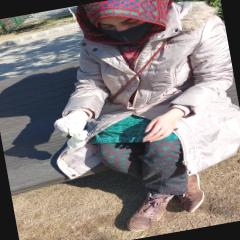gloved: (54, 110, 91, 140)
not-gloved: (140, 107, 186, 143)
